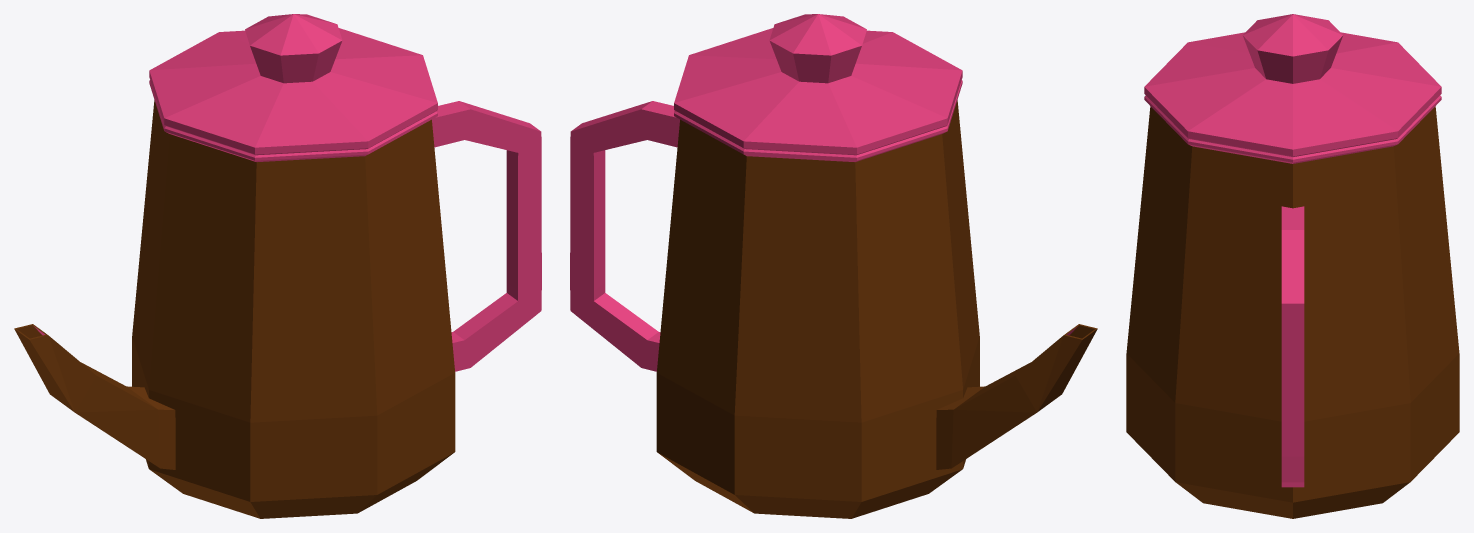
Rendered from Kettle_03.fbx.
3 renders of one model, left to right at view 1: azimuth 30°, elevation 25°; view 2: azimuth 150°, elevation 25°; view 3: azimuth 270°, elevation 25°, orthographic.
Visible parts, largest first — view 1: Kettle_03; view 2: Kettle_03; view 3: Kettle_03.
Part boxes in pixels (x1,y1,x2,y2): Kettle_03: (14,14,541,518); Kettle_03: (570,14,1097,518); Kettle_03: (1126,14,1459,518).
Size of the model in its own units: 48.28 by 40.62 by 27.19.
